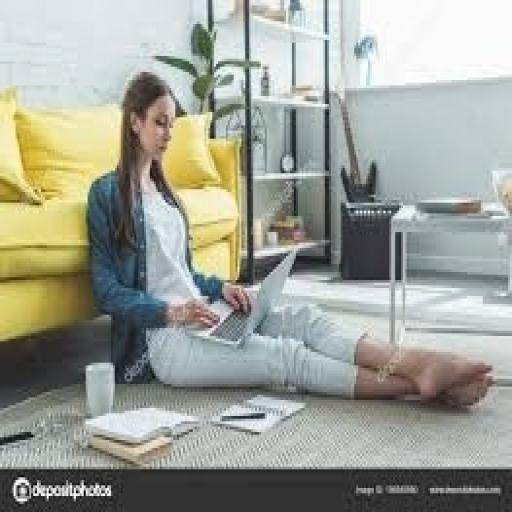using_laptop: (181, 243, 300, 349)
